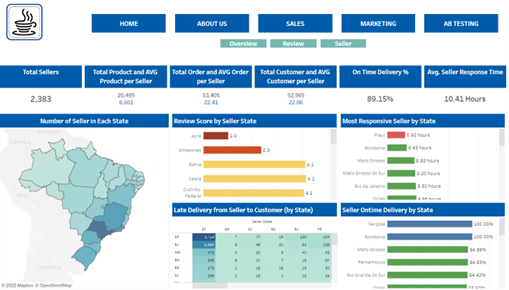

What the dashboard file says about the page in this screenshot:
{"tool":"tableau","page":{"name":"SALES Seller","canvas":[1366,768],"ordinal":5},"visuals":[{"type":"image","param":"C:/Users/artanggoro/Downloads/PACMANN PLBI 2 - JAVA TEAM ECOMMERCE.twb Files/Ima","box":[0,0,1366,768]},{"type":"dashboard-object","box":[250,33,216,72]},{"type":"dashboard-object","box":[466,33,216,72]},{"type":"dashboard-object","box":[682,33,216,72]},{"type":"dashboard-object","box":[898,33,215,72]},{"type":"dashboard-object","box":[1113,33,215,72]},{"type":"dashboard-object","box":[590,105,130,32]},{"type":"dashboard-object","box":[720,105,130,32]},{"type":"dashboard-object","box":[850,105,129,32]},{"type":"worksheet","title":"Number of Seller","mark":"Automatic","box":[19,174,221,118]},{"type":"worksheet","title":"Total Product and AVG Product per Seller","mark":"Automatic","box":[240,174,221,118]},{"type":"worksheet","title":"Total Order and AVG Order per Seller","mark":"Automatic","box":[461,174,220,118]},{"type":"worksheet","title":"Total Customer and AVG Customer per Seller","mark":"Automatic","box":[681,174,220,118]},{"type":"worksheet","title":"%Delivered Order","mark":"Automatic","box":[901,174,220,118]},{"type":"worksheet","title":"Avg. Response Time","mark":"Automatic","box":[1121,174,220,118]},{"type":"worksheet","title":"Map_Sales S","mark":"Automatic","box":[19,300,448,461]},{"type":"worksheet","title":"#Customer for Seller Bar","mark":"Automatic","rows":["STATE_NAME (brazil_state1)"],"cols":["review_score"],"box":[467,300,437,231]},{"type":"worksheet","title":"Most Responsive Seller","mark":"Automatic","rows":["STATE_NAME (brazil_state1)"],"cols":["Calculation_1715871485038653479"],"box":[904,300,437,231]},{"type":"worksheet","title":"Heatmap","mark":"Square","rows":["customer_state"],"cols":["seller_state"],"box":[467,531,437,230]},{"type":"worksheet","title":"Ontime Delivery","mark":"Automatic","rows":["STATE_NAME (brazil_state1)"],"cols":["Calculation_1715871485010141212"],"box":[904,531,437,230]}]}

Visuals, with their boxes in screenshot pixels (x1, y1, x2, y2), scaled from the page's 1366x768 canvas onto the 509x290 screenshot:
image: x1=0, y1=0, x2=508, y2=289
dashboard-object: x1=93, y1=12, x2=174, y2=40
dashboard-object: x1=174, y1=12, x2=254, y2=40
dashboard-object: x1=254, y1=12, x2=335, y2=40
dashboard-object: x1=335, y1=12, x2=415, y2=40
dashboard-object: x1=415, y1=12, x2=495, y2=40
dashboard-object: x1=220, y1=40, x2=268, y2=52
dashboard-object: x1=268, y1=40, x2=317, y2=52
dashboard-object: x1=317, y1=40, x2=365, y2=52
"Number of Seller" worksheet: x1=7, y1=66, x2=89, y2=110
"Total Product and AVG Product per Seller" worksheet: x1=89, y1=66, x2=172, y2=110
"Total Order and AVG Order per Seller" worksheet: x1=172, y1=66, x2=254, y2=110
"Total Customer and AVG Customer per Seller" worksheet: x1=254, y1=66, x2=336, y2=110
"%Delivered Order" worksheet: x1=336, y1=66, x2=418, y2=110
"Avg. Response Time" worksheet: x1=418, y1=66, x2=500, y2=110
"Map_Sales S" worksheet: x1=7, y1=113, x2=174, y2=287
"#Customer for Seller Bar" worksheet: x1=174, y1=113, x2=337, y2=201
"Most Responsive Seller" worksheet: x1=337, y1=113, x2=500, y2=201
"Heatmap" worksheet (Square marks): x1=174, y1=201, x2=337, y2=287
"Ontime Delivery" worksheet: x1=337, y1=201, x2=500, y2=287
